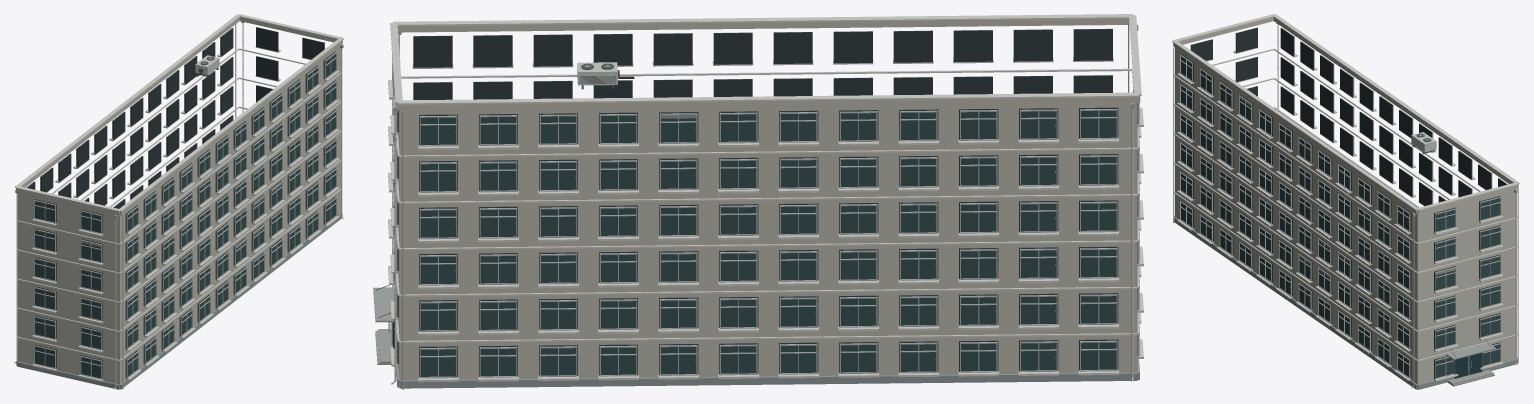
Rendered from osm_way_225265332.glb.
3 renders of one model, left to right at view 1: azimuth 30°, elevation 25°; view 2: azimuth 150°, elevation 25°; view 3: azimuth 270°, elevation 25°, orthographic. The views are drawn at different scales.
Visible parts, largest first — view 1: Windows and facade details | osm_way_225265332, Architecture | osm_way_225265332, Roof services | osm_way_225265332, EXTERIOR::osm_way_225265332::rainwater and roof service deta; view 2: Windows and facade details | osm_way_225265332, Architecture | osm_way_225265332, Roof services | osm_way_225265332, EXTERIOR::osm_way_225265332::rainwater and roof service deta, EXTERIOR::osm_way_225265332::inferred entry doors canopy and; view 3: Windows and facade details | osm_way_225265332, Architecture | osm_way_225265332, Roof services | osm_way_225265332, EXTERIOR::osm_way_225265332::inferred entry doors canopy and, EXTERIOR::osm_way_225265332::rainwater and roof service deta.
Boxes of the visible parts, x1=… form: Windows and facade details | osm_way_225265332: x1=26, y1=24, x2=339, y2=389; Architecture | osm_way_225265332: x1=16, y1=17, x2=342, y2=389; Roof services | osm_way_225265332: x1=15, y1=14, x2=343, y2=211; EXTERIOR::osm_way_225265332::rainwater and roof service deta: x1=14, y1=21, x2=344, y2=389; Windows and facade details | osm_way_225265332: x1=388, y1=25, x2=1143, y2=389; Architecture | osm_way_225265332: x1=393, y1=18, x2=1140, y2=388; Roof services | osm_way_225265332: x1=390, y1=14, x2=1141, y2=104; EXTERIOR::osm_way_225265332::rainwater and roof service deta: x1=391, y1=24, x2=1138, y2=384; EXTERIOR::osm_way_225265332::inferred entry doors canopy and: x1=373, y1=285, x2=394, y2=364; Windows and facade details | osm_way_225265332: x1=1173, y1=27, x2=1518, y2=381; Architecture | osm_way_225265332: x1=1173, y1=17, x2=1518, y2=389; Roof services | osm_way_225265332: x1=1172, y1=14, x2=1519, y2=210; EXTERIOR::osm_way_225265332::inferred entry doors canopy and: x1=1446, y1=340, x2=1495, y2=386; EXTERIOR::osm_way_225265332::rainwater and roof service deta: x1=1276, y1=23, x2=1517, y2=388.
Size of the model in its own units: 45.99 by 20.58 by 34.44.
